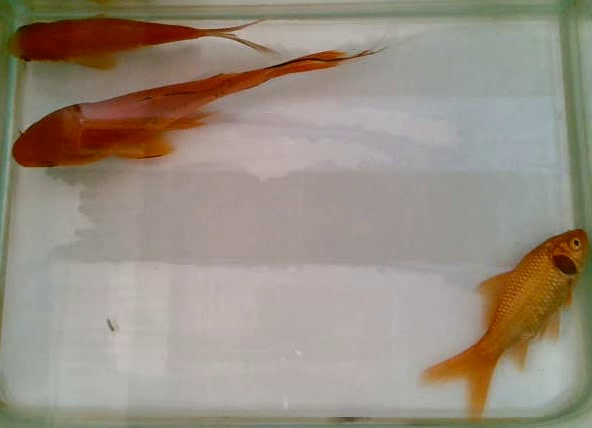alive_fish: (7, 43, 399, 171), (7, 10, 284, 73)
dead_fish: (409, 219, 590, 425)
